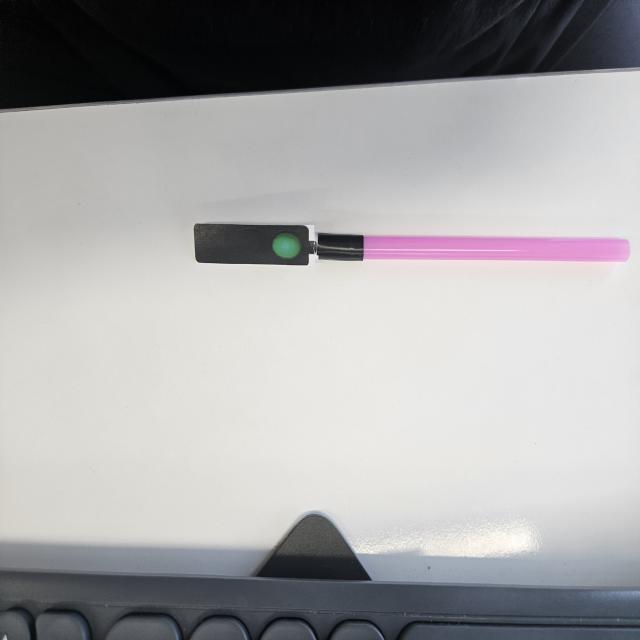traffic light: (194, 224, 319, 268)
